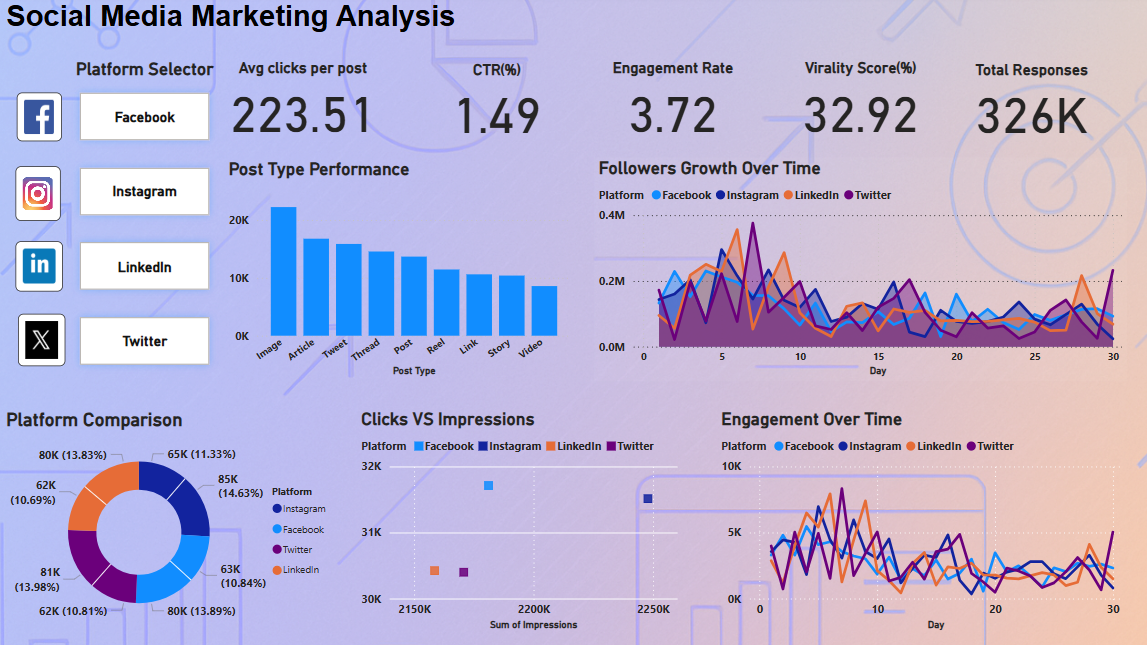

The dashboard page shown, as its layout file describes it:
{"tool":"powerbi","page":{"name":"Page 1","canvas":[1280,720],"ordinal":0},"visuals":[{"type":"advancedSlicerVisual","title":"Platform Selector","fields":{"Values":["social_media_dashboard_data.Platform"]},"box":[79.6,70,174.3,354],"z":0},{"type":"card","title":"Avg clicks per post","fields":{"Values":["social_media_dashboard_data.avg_click_per_post"]},"box":[253.9,70,172.9,90.6],"z":1000},{"type":"card","title":"CTR(%)","fields":{"Values":["social_media_dashboard_data.Click_through_rate(CTR)"]},"box":[466.6,71.4,172.9,89.2],"z":2000},{"type":"card","title":"Engagement Rate","fields":{"Values":["social_media_dashboard_data.Engagement_rate"]},"box":[660,70,172.9,90.6],"z":3000},{"type":"card","title":"Virality Score(%)","fields":{"Values":["social_media_dashboard_data.follo_growth"]},"box":[865.9,70,172.9,90.6],"z":4000},{"type":"card","title":"Total Responses","fields":{"Values":["social_media_dashboard_data.Likess"]},"box":[1053.9,71.4,172.9,89.2],"z":5000},{"type":"textbox","box":[9.6,0,516,52.1],"z":6000},{"type":"lineChart","title":"Engagement Over Time ","fields":{"Category":["social_media_dashboard_data.Date.Variation.Date Hierarchy.Day"],"Y":["Sum(social_media_dashboard_data.Total Engagement)"],"Series":["social_media_dashboard_data.Platform"]},"box":[794.5,454.2,450.1,248.4],"z":7000},{"type":"donutChart","title":"Platform Comparison","fields":{"Category":["social_media_dashboard_data.Platform"],"Y":["Sum(social_media_dashboard_data.Likes)","Sum(social_media_dashboard_data.Total Engagement)"]},"box":[9.6,454.2,370.5,248.4],"z":8000},{"type":"columnChart","title":"Post Type Performance","fields":{"Category":["social_media_dashboard_data.Post Type"],"Y":["Sum(social_media_dashboard_data.Clicks)"]},"box":[253.9,179.8,385.6,244.3],"z":9000},{"type":"areaChart","title":"Followers Growth Over Time ","fields":{"Category":["social_media_dashboard_data.Date.Variation.Date Hierarchy.Day"],"Y":["Sum(social_media_dashboard_data.Followers)"],"Series":["social_media_dashboard_data.Platform"]},"box":[660,178.4,584.6,245.6],"z":10000},{"type":"scatterChart","title":"Clicks VS Impressions","fields":{"X":["Sum(social_media_dashboard_data.Impressions)"],"Series":["social_media_dashboard_data.Platform"],"Y":["Sum(social_media_dashboard_data.Clicks)"]},"box":[399.3,454.2,374.6,248.4],"z":11000},{"type":"image","box":[26.1,107,49.4,53.5],"z":12000},{"type":"image","box":[24.7,270.3,52.1,54.9],"z":13000},{"type":"image","box":[24.7,188,49.4,60.4],"z":14000},{"type":"image","box":[27.4,349.9,52.1,57.6],"z":15000}]}

Visuals, with their boxes in screenshot pixels (x1, y1, x2, y2), scaled from the page's 1280x720 canvas onto the 1147x645 screenshot:
"Platform Selector" advancedSlicerVisual: <region>71, 63, 228, 380</region>
"Avg clicks per post" card: <region>228, 63, 382, 144</region>
"CTR(%)" card: <region>418, 64, 573, 144</region>
"Engagement Rate" card: <region>591, 63, 746, 144</region>
"Virality Score(%)" card: <region>776, 63, 931, 144</region>
"Total Responses" card: <region>944, 64, 1099, 144</region>
textbox: <region>9, 0, 471, 47</region>
"Engagement Over Time " lineChart: <region>712, 407, 1115, 629</region>
"Platform Comparison" donutChart: <region>9, 407, 341, 629</region>
"Post Type Performance" columnChart: <region>228, 161, 573, 380</region>
"Followers Growth Over Time " areaChart: <region>591, 160, 1115, 380</region>
"Clicks VS Impressions" scatterChart: <region>358, 407, 693, 629</region>
image: <region>23, 96, 68, 144</region>
image: <region>22, 242, 69, 291</region>
image: <region>22, 168, 66, 223</region>
image: <region>25, 313, 71, 365</region>
